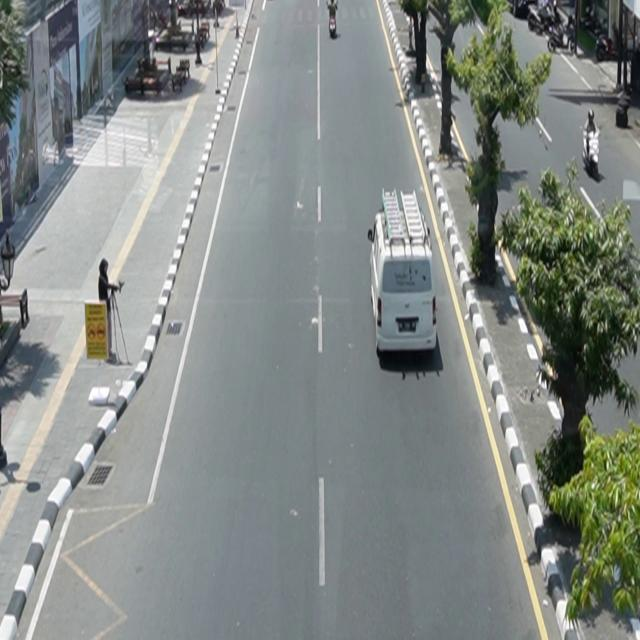bus: (368, 188, 439, 357)
